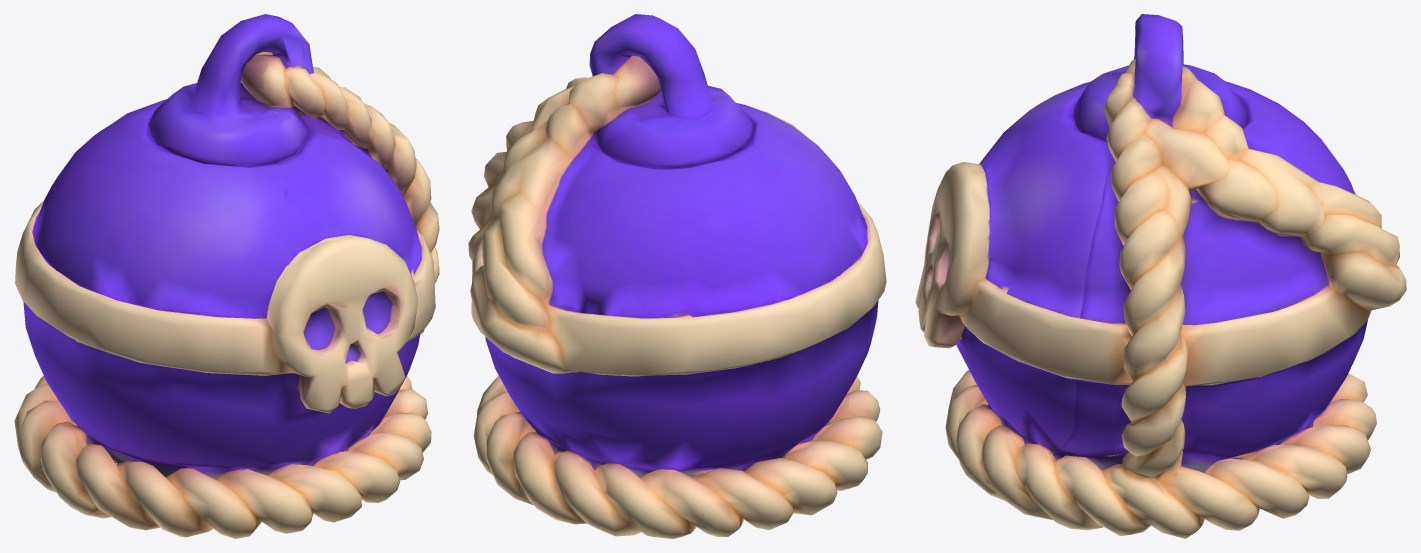
File: skullball.glb
The picture shows the model from 3 angles, left to right: view 1: azimuth 30°, elevation 25°; view 2: azimuth 150°, elevation 25°; view 3: azimuth 270°, elevation 25°; orthographic projection. The views are drawn at different scales.
Visible parts, largest first — view 1: skullball; view 2: skullball; view 3: skullball.
Part boxes in pixels (x1,y1,x2,y2): skullball: (14, 14, 439, 538); skullball: (468, 14, 886, 538); skullball: (915, 14, 1406, 538).
Size of the model in its own units: 1.84 by 2 by 1.93.
Materials: 1 (1 with a texture image).
